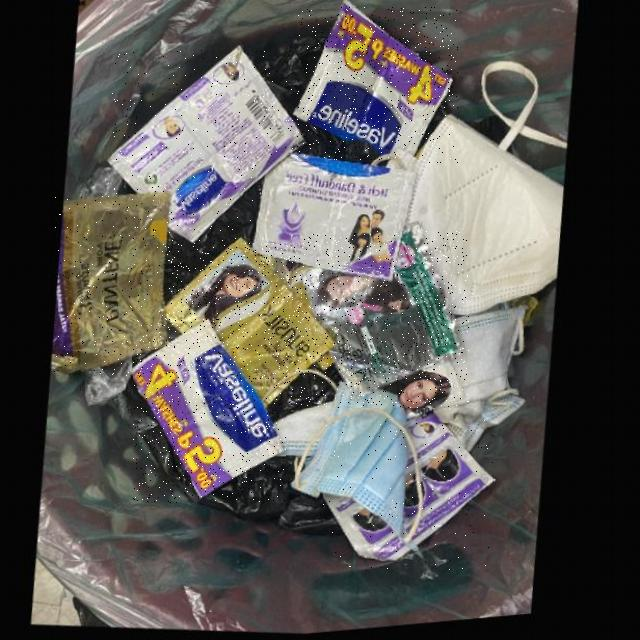wrapper: (112, 50, 307, 247), (304, 231, 469, 408), (167, 243, 338, 406), (134, 325, 286, 502), (324, 419, 494, 571), (298, 7, 458, 164), (53, 196, 175, 377), (256, 160, 421, 289)
